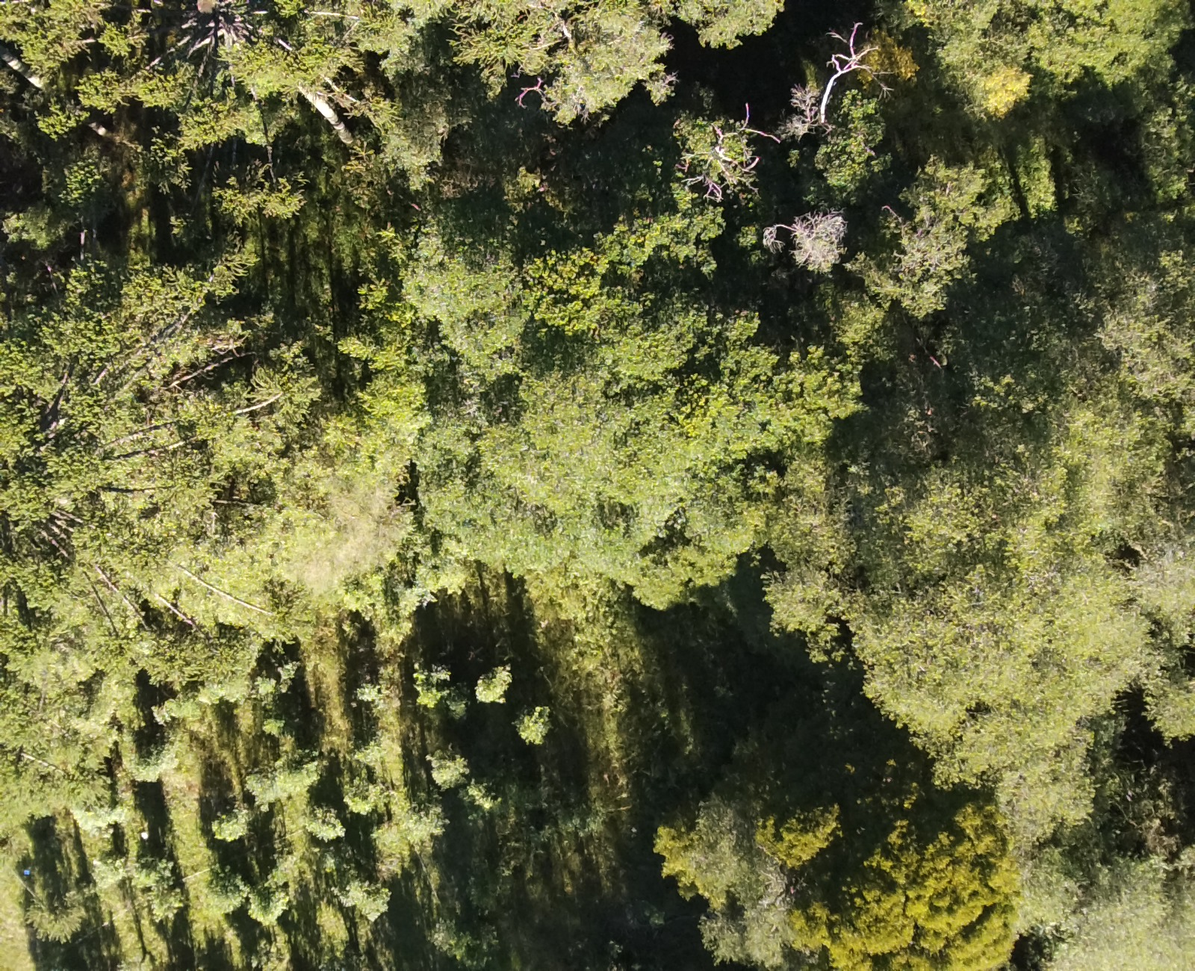erva: (240, 747, 311, 795), (464, 650, 518, 707), (193, 862, 249, 914), (197, 797, 249, 847), (507, 701, 559, 750), (410, 658, 450, 710), (423, 735, 465, 782), (242, 890, 293, 923), (462, 770, 497, 817), (362, 873, 396, 919), (325, 862, 364, 902), (297, 803, 340, 839), (350, 732, 384, 763), (347, 674, 382, 703), (342, 780, 374, 810)
